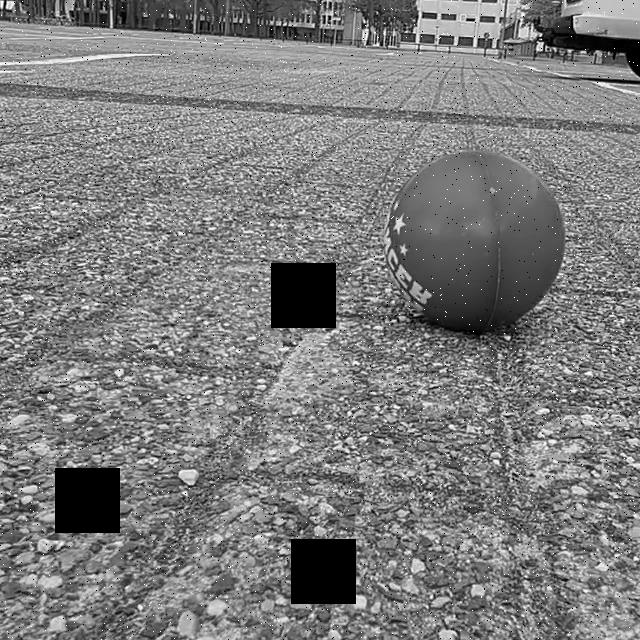ball: (412, 145, 568, 334)
